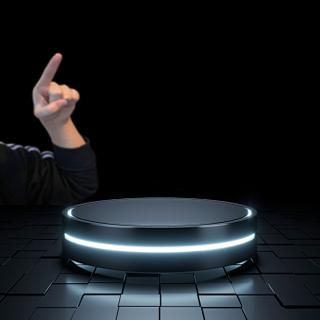IRRITATED: (25, 51, 81, 126)
